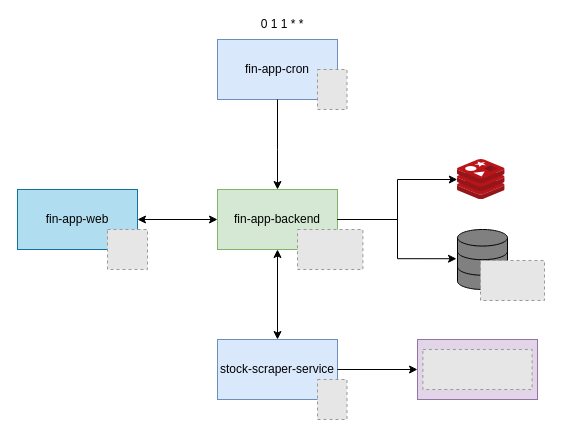
The diagram is 562 pixels wide and 437 high, and some of its shapes have lost their labels. Grey dashed boxes stand in for pictures. Here are the shapes that lost their labels. From the top down, the centre of each, then its label:
the point at 481,179: cache
the point at 482,259: database
